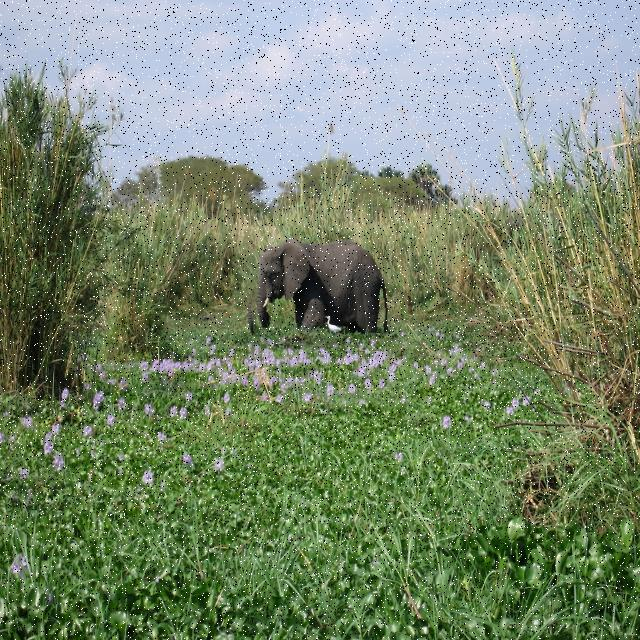elephant: (242, 227, 394, 351)
